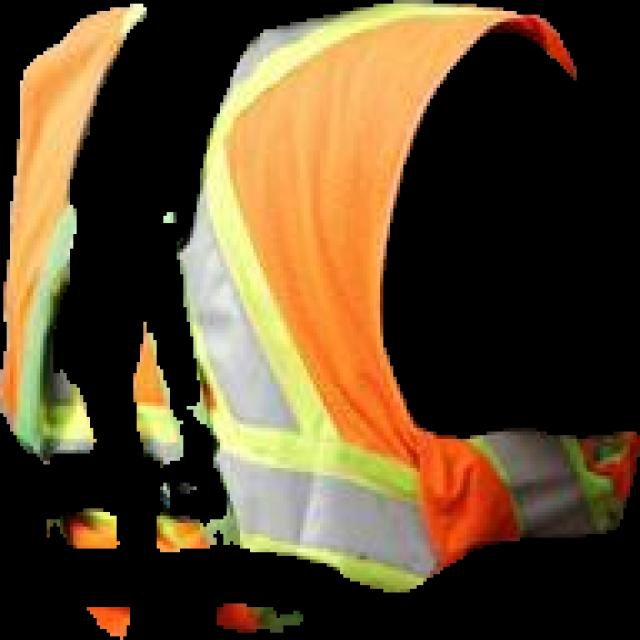Colete: (157, 0, 639, 592)
